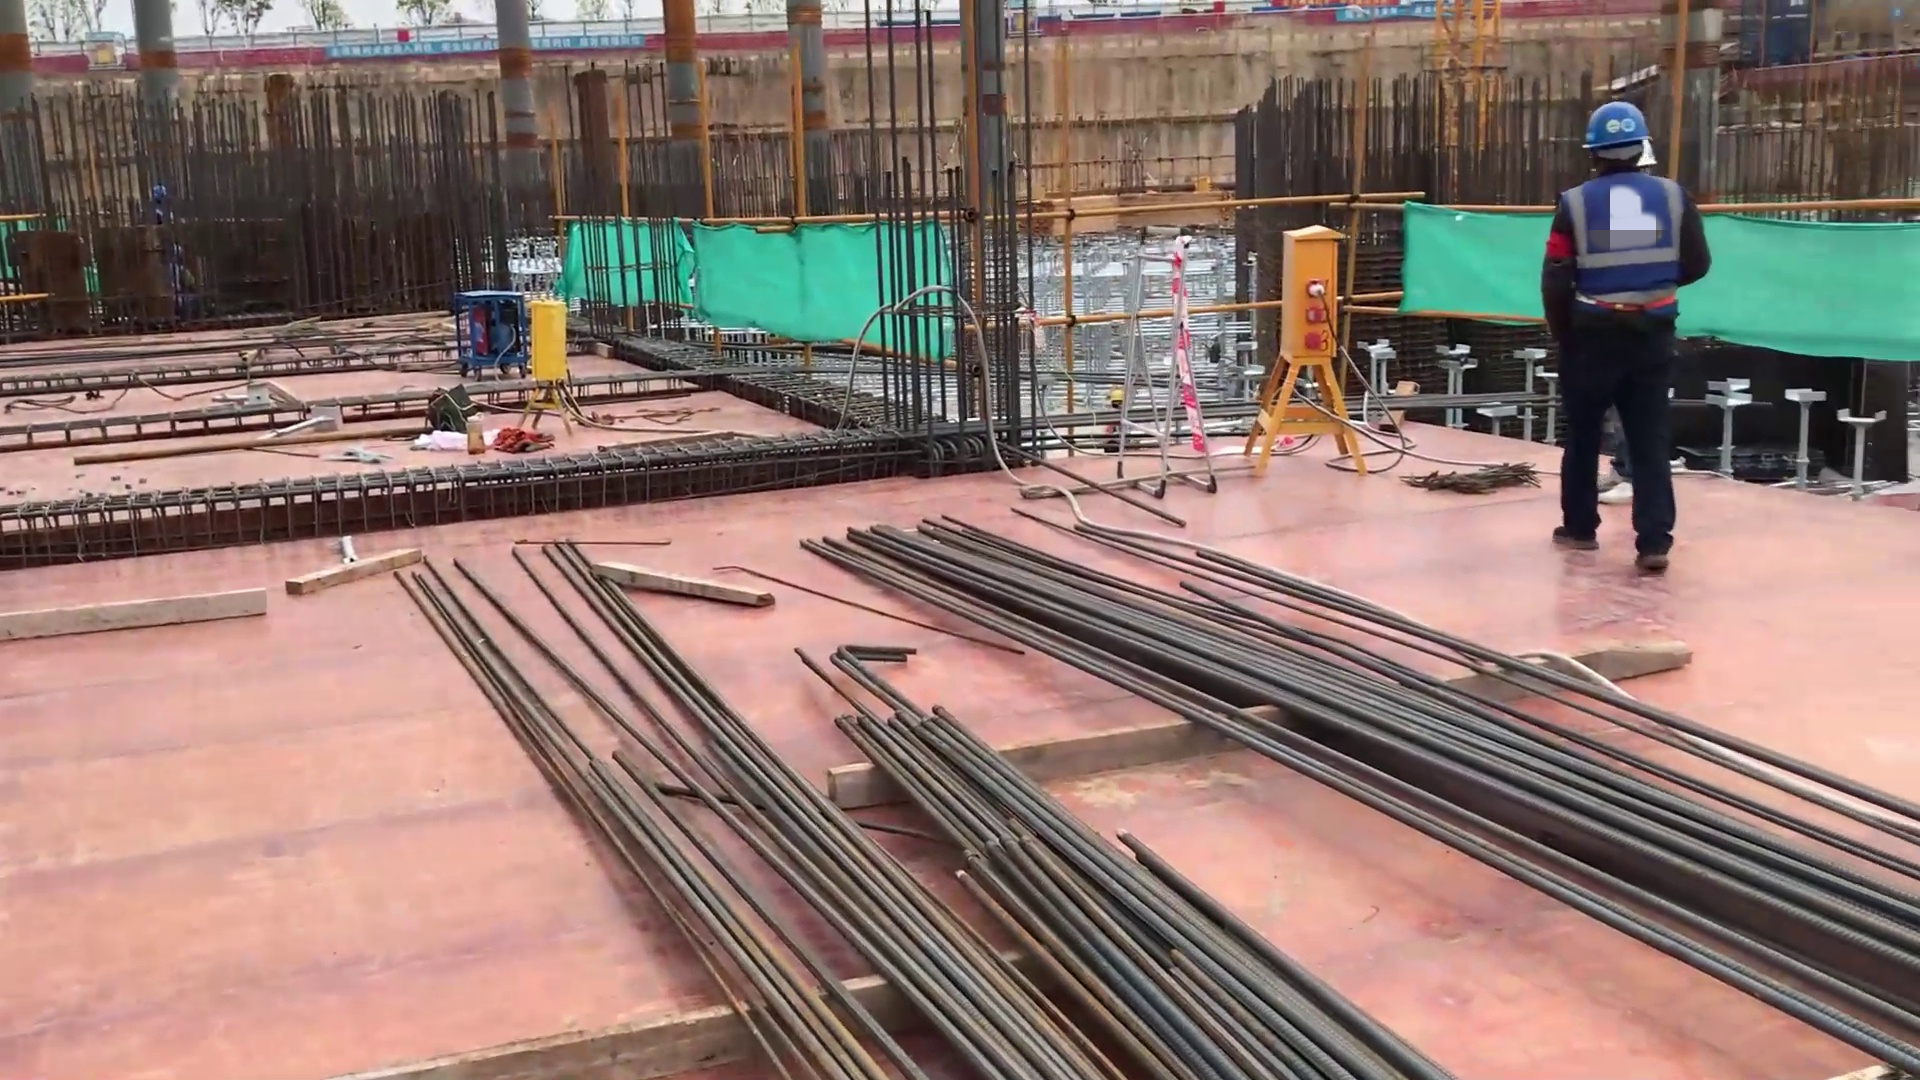ebox: (1234, 214, 1376, 486), (517, 288, 584, 436)
helmet: (1579, 100, 1660, 162)
person: (1543, 86, 1724, 598)
rebar: (834, 497, 1889, 1080), (712, 619, 1450, 1080)
vest: (1555, 179, 1691, 343)
